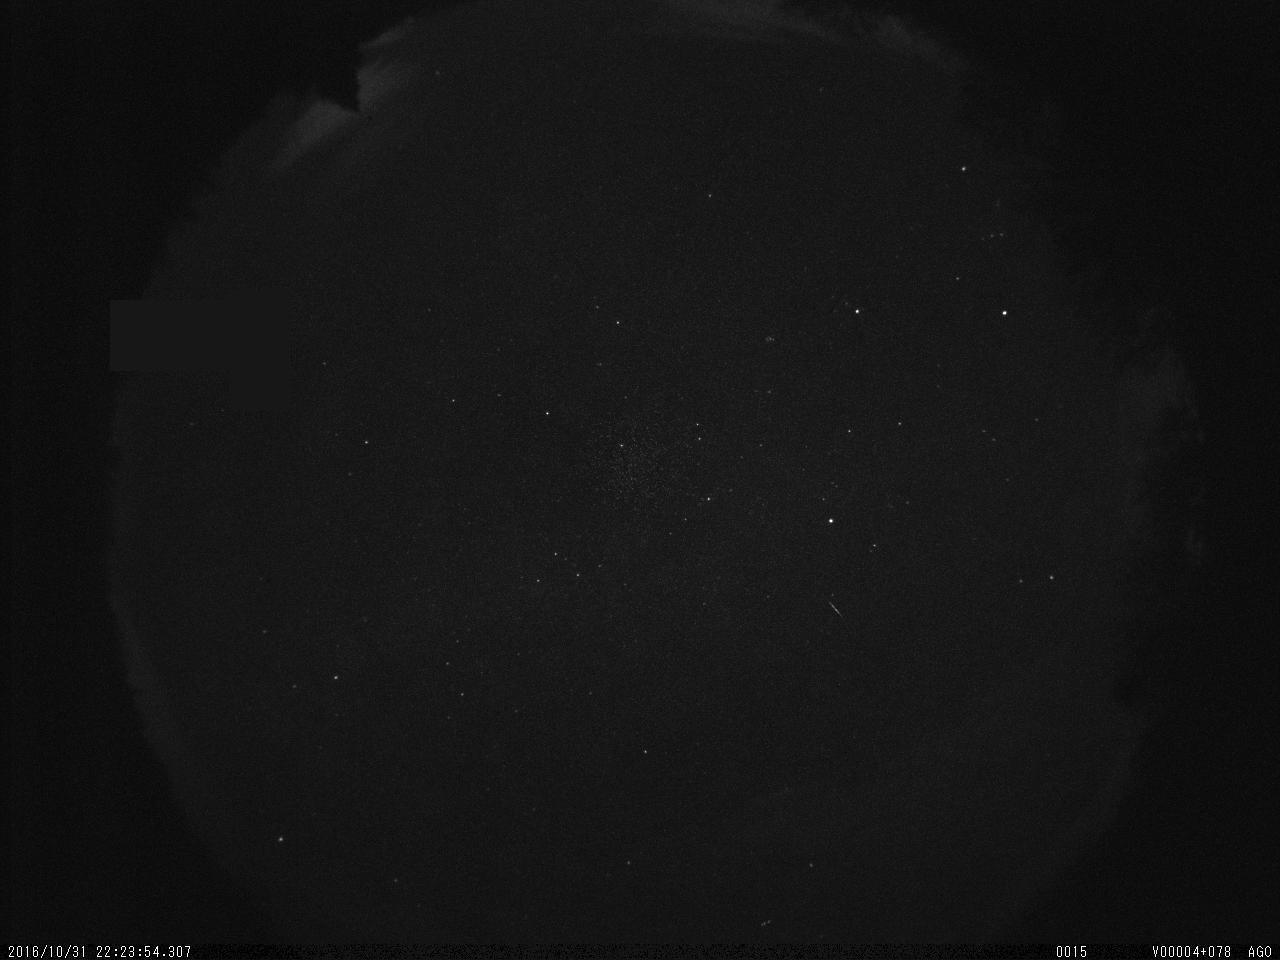Meteor: (822, 594, 847, 620)
